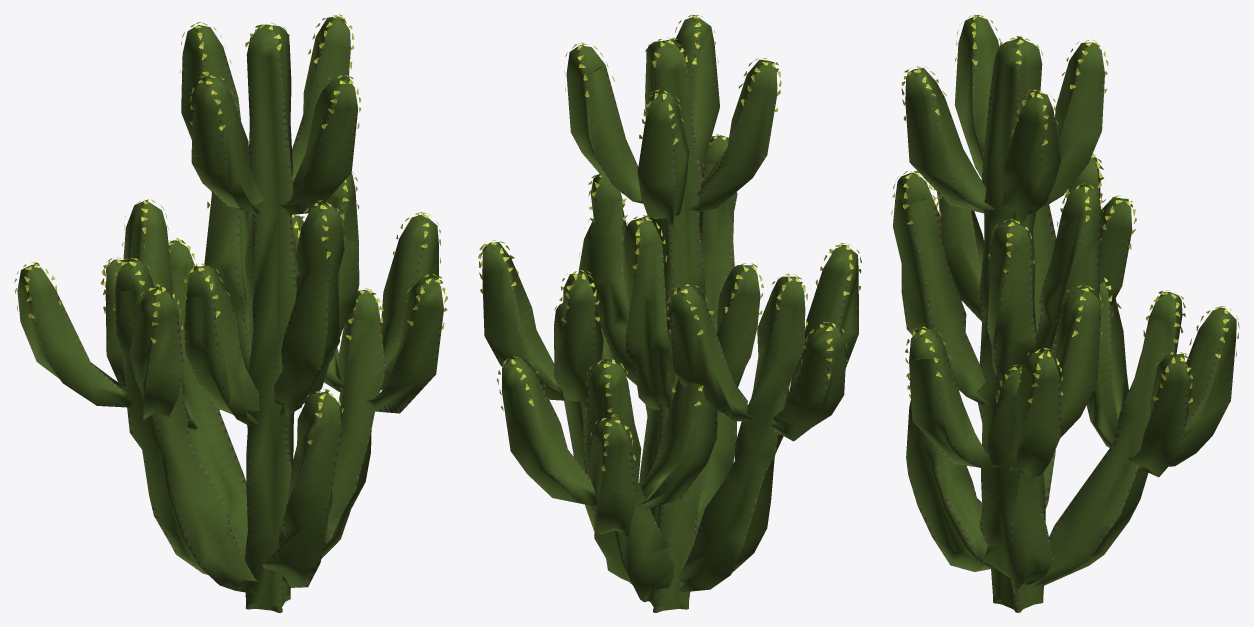
File: cand1.glb
The picture shows the model from 3 angles, left to right: view 1: azimuth 30°, elevation 25°; view 2: azimuth 150°, elevation 25°; view 3: azimuth 270°, elevation 25°; orthographic projection. The views are drawn at different scales.
Visible parts, largest first — view 1: Euphorbia_candelabrum_HD; view 2: Euphorbia_candelabrum_HD; view 3: Euphorbia_candelabrum_HD.
Boxes of the visible parts, x1=… form: Euphorbia_candelabrum_HD: x1=14, y1=14, x2=447, y2=612; Euphorbia_candelabrum_HD: x1=478, y1=14, x2=861, y2=612; Euphorbia_candelabrum_HD: x1=891, y1=14, x2=1239, y2=612.
Size of the model in its own units: 0.6667 by 0.9315 by 0.5203.
Materials: 3 (3 with a texture image).
